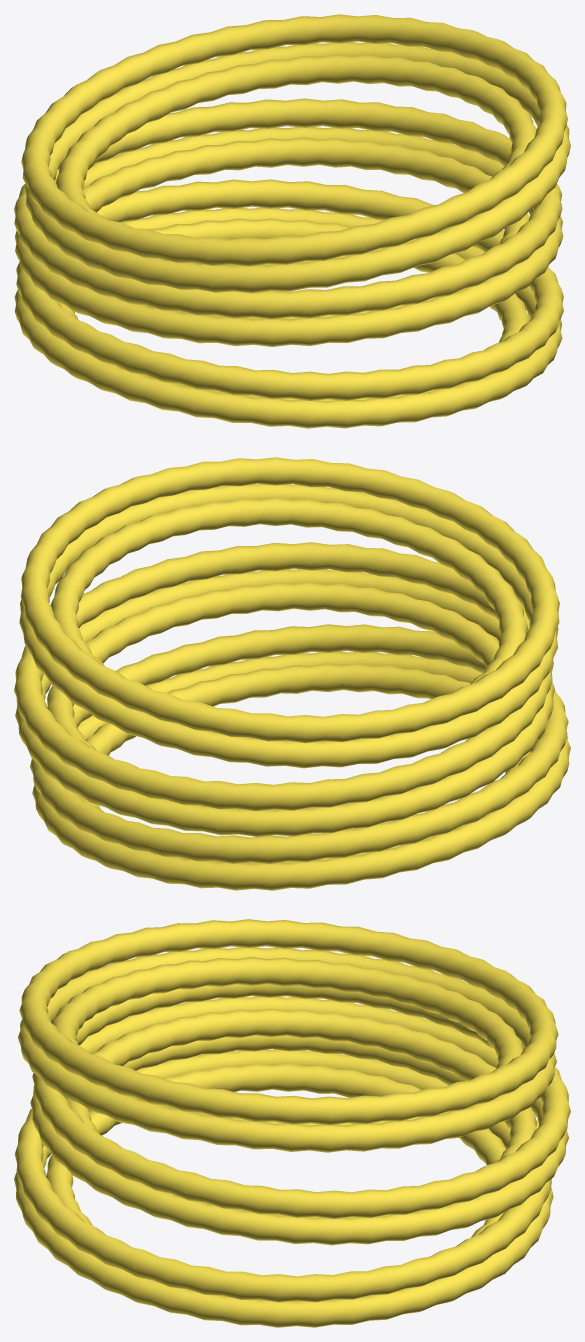
The model's file is ELE-ELD-001_anim.glb.
3 renders of one model, top to bottom at view 1: azimuth 30°, elevation 25°; view 2: azimuth 150°, elevation 25°; view 3: azimuth 270°, elevation 25°, orthographic.
Visible parts, largest first — view 1: ELE-ELD-001_anim2, ELE-ELD-001_anim1, ELE-ELD-001_anim0; view 2: ELE-ELD-001_anim2, ELE-ELD-001_anim1, ELE-ELD-001_anim0; view 3: ELE-ELD-001_anim2, ELE-ELD-001_anim1, ELE-ELD-001_anim0.
Part boxes in pixels (x1,y1,x2,y2): ELE-ELD-001_anim2: [21, 14, 570, 293]; ELE-ELD-001_anim1: [14, 98, 563, 346]; ELE-ELD-001_anim0: [14, 179, 563, 428]; ELE-ELD-001_anim2: [19, 457, 559, 768]; ELE-ELD-001_anim1: [14, 542, 554, 836]; ELE-ELD-001_anim0: [30, 624, 570, 890]; ELE-ELD-001_anim2: [18, 919, 558, 1152]; ELE-ELD-001_anim1: [30, 984, 570, 1245]; ELE-ELD-001_anim0: [14, 1035, 553, 1327].
Size of the model in its own units: 0.4741 by 0.2261 by 0.4797.
